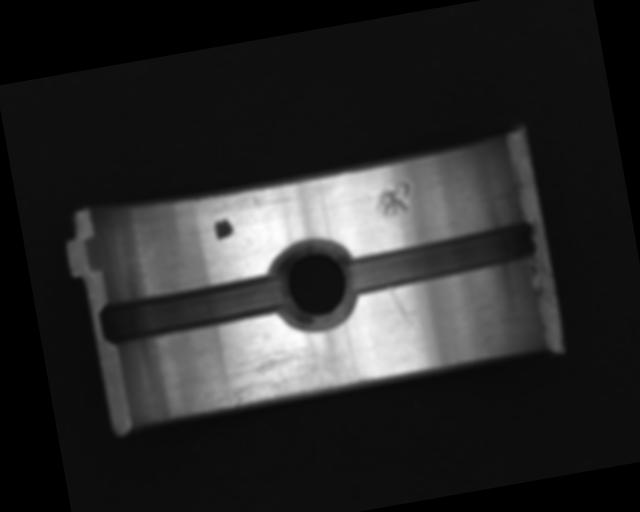blot: (212, 217, 235, 241)
bruise: (372, 181, 415, 218)
gap: (340, 216, 540, 298), (96, 272, 286, 347)
hole: (266, 233, 364, 335)
nick: (385, 283, 420, 343)
scratch: (191, 328, 372, 416)
